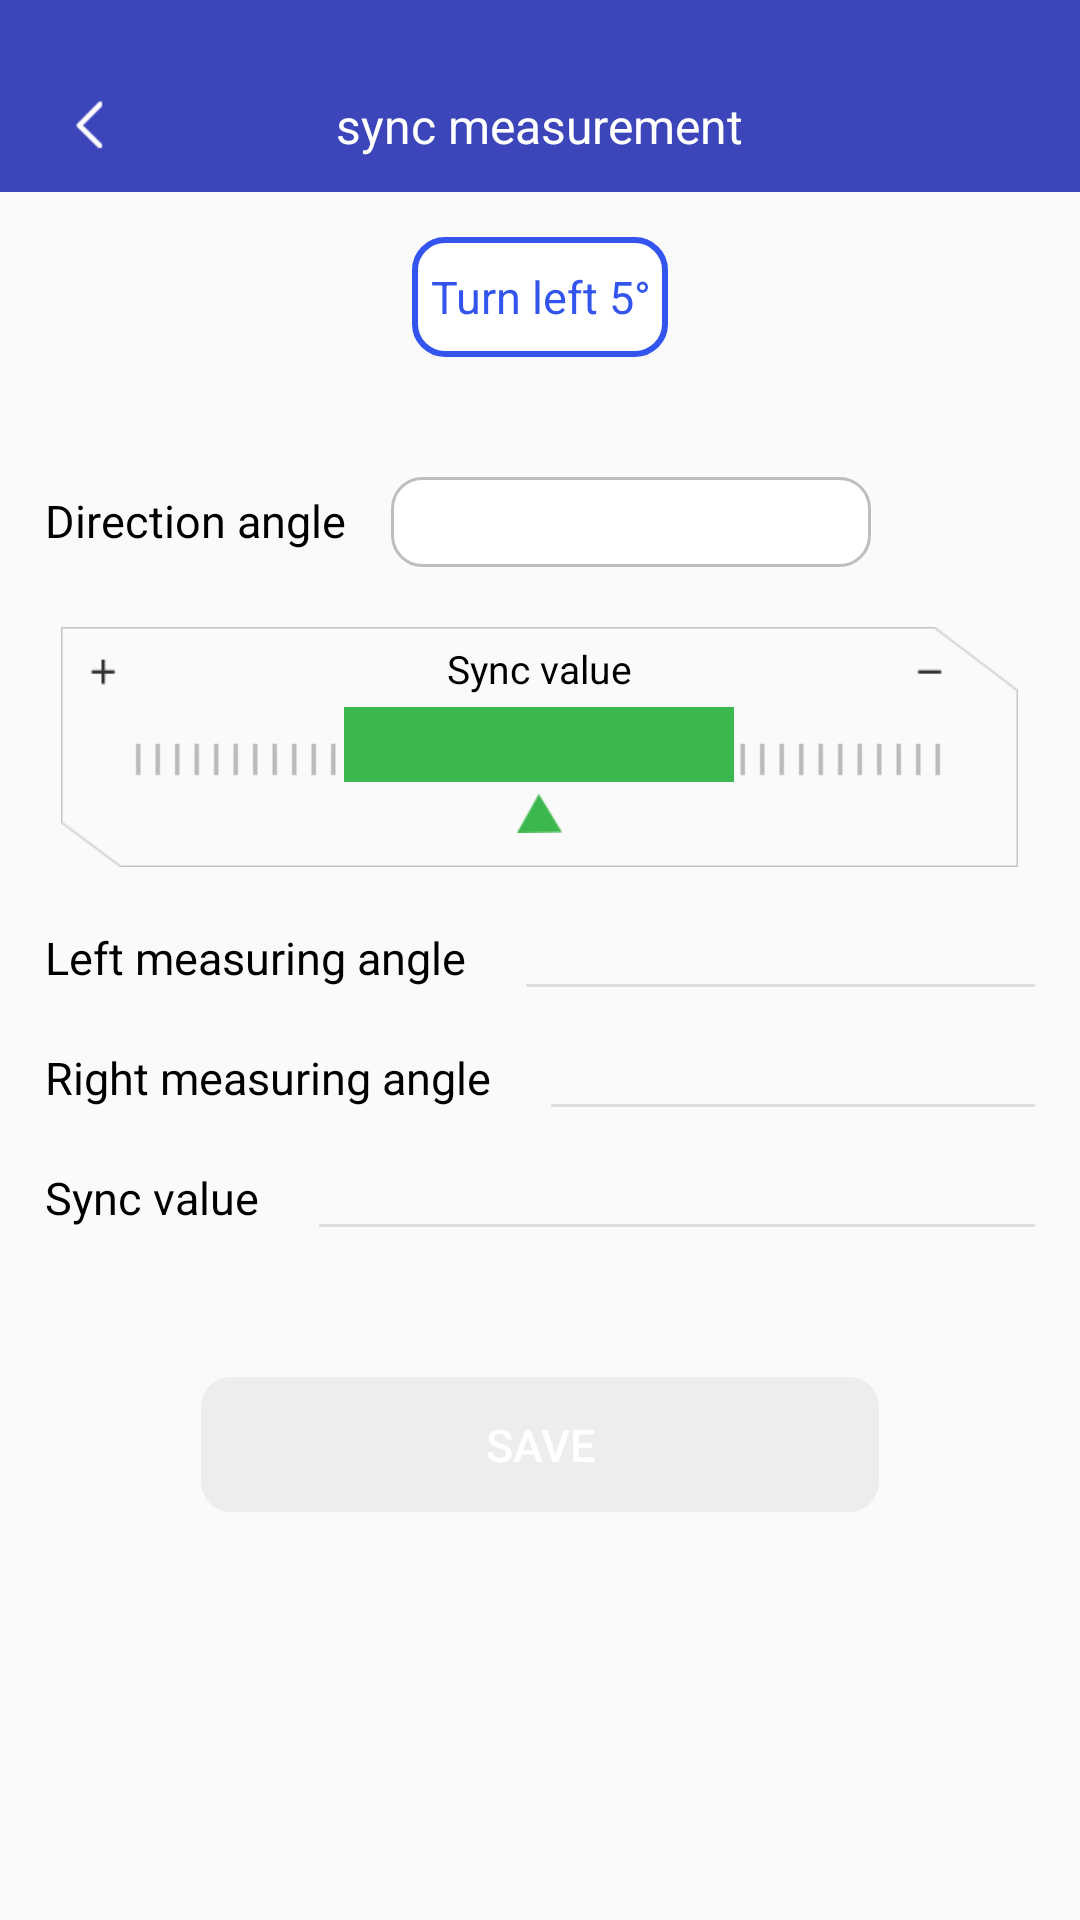

Icons on this 1080×1920 Android screen, each with its box as (x1, y1, x2, y2):
back: (76, 101, 103, 149)
